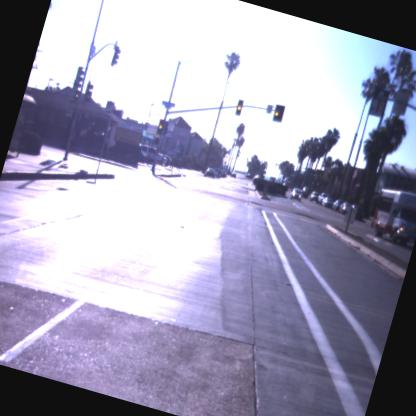trafficlight: (154, 116, 172, 144), (270, 100, 288, 127), (108, 42, 124, 68), (232, 97, 246, 119)
